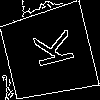K: (24, 28, 75, 72)
